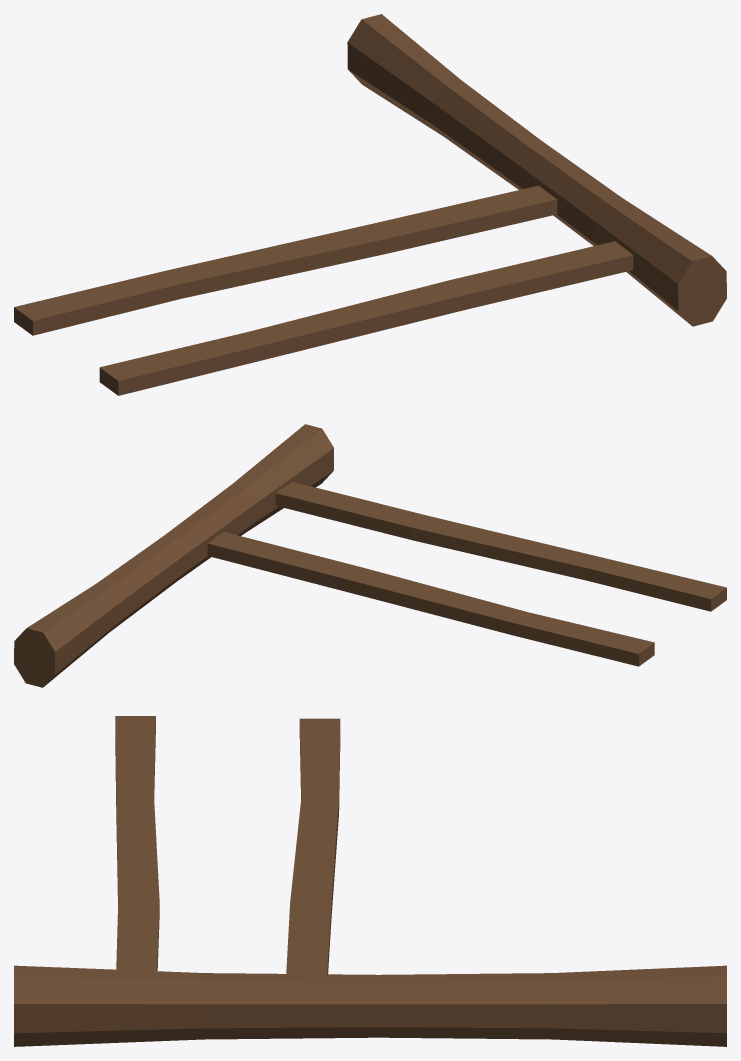
The model's file is Barrier_03_Right_02.fbx.
3 views of the same model, one above another, from view 1: azimuth 30°, elevation 25°; view 2: azimuth 150°, elevation 25°; view 3: azimuth 270°, elevation 25° (orthographic). The views are drawn at different scales.
Visible parts, largest first — view 1: Barriere_3 bord droit.002; view 2: Barriere_3 bord droit.002; view 3: Barriere_3 bord droit.002.
Part boxes in pixels (left/top/right/bottom): Barriere_3 bord droit.002: left=14, top=14, right=726, bottom=395; Barriere_3 bord droit.002: left=14, top=424, right=726, bottom=687; Barriere_3 bord droit.002: left=14, top=716, right=726, bottom=1046.
Size of the model in its own units: 98.19 by 11.02 by 100.
